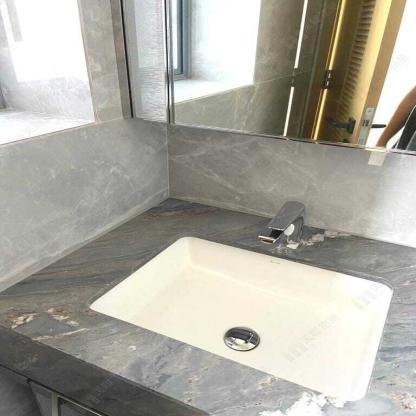Toilet Sink: (0, 197, 415, 415)
